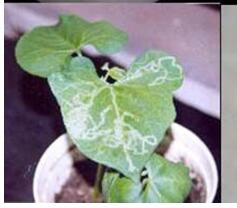liriomyza: (60, 93, 158, 172), (114, 55, 183, 88)
